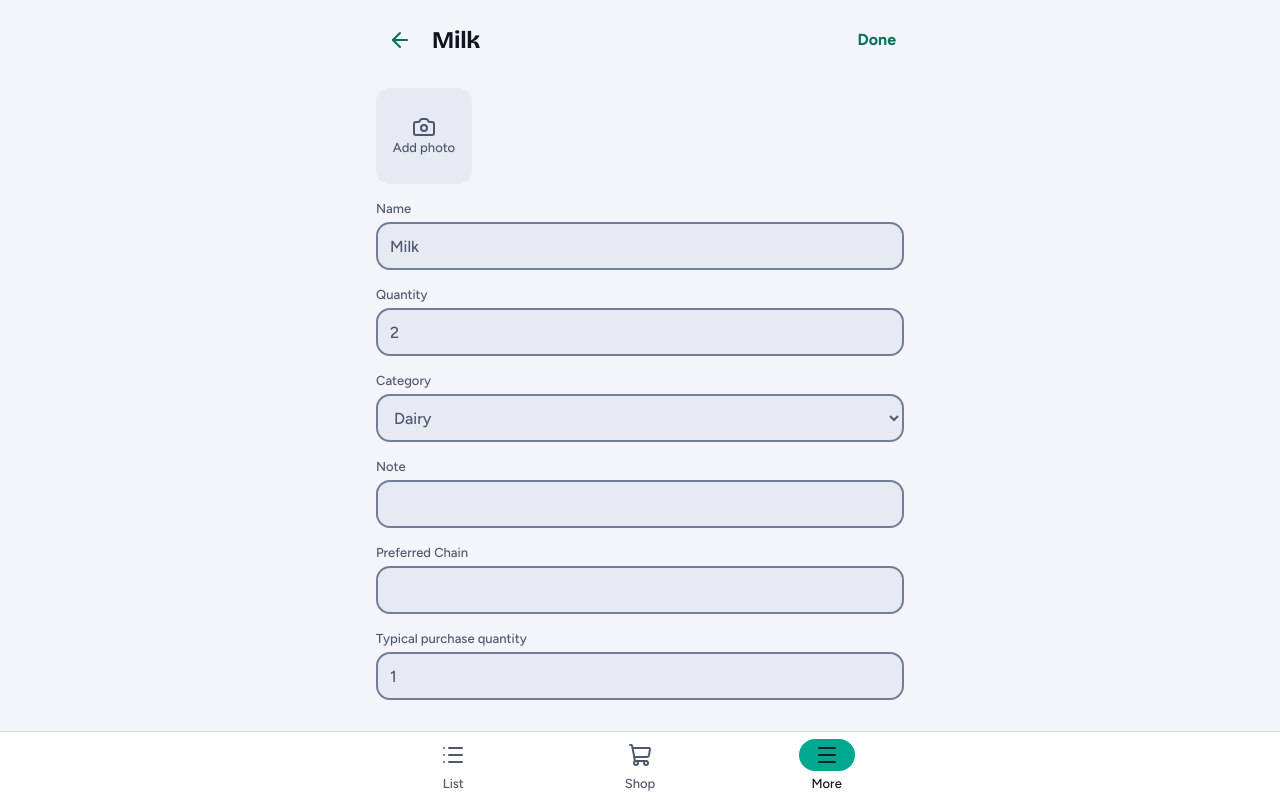
Test: refuses invalid typical quantity  without saving
Step 1. Clear the field labelled "Typical purchase quantity" → (640, 676), box x1=376 y1=652 x2=904 y2=700
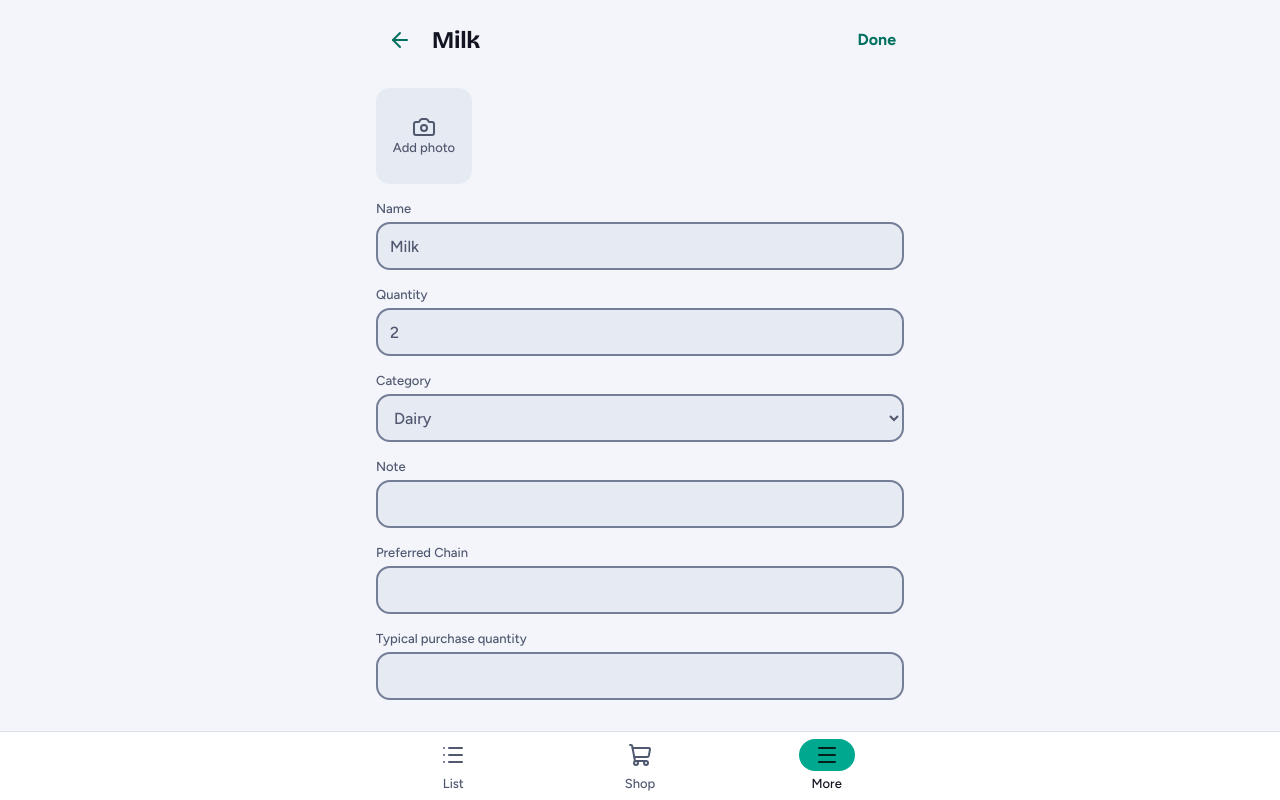
Step 2. Click the button "Done" → (877, 40), box x1=850 y1=16 x2=904 y2=64
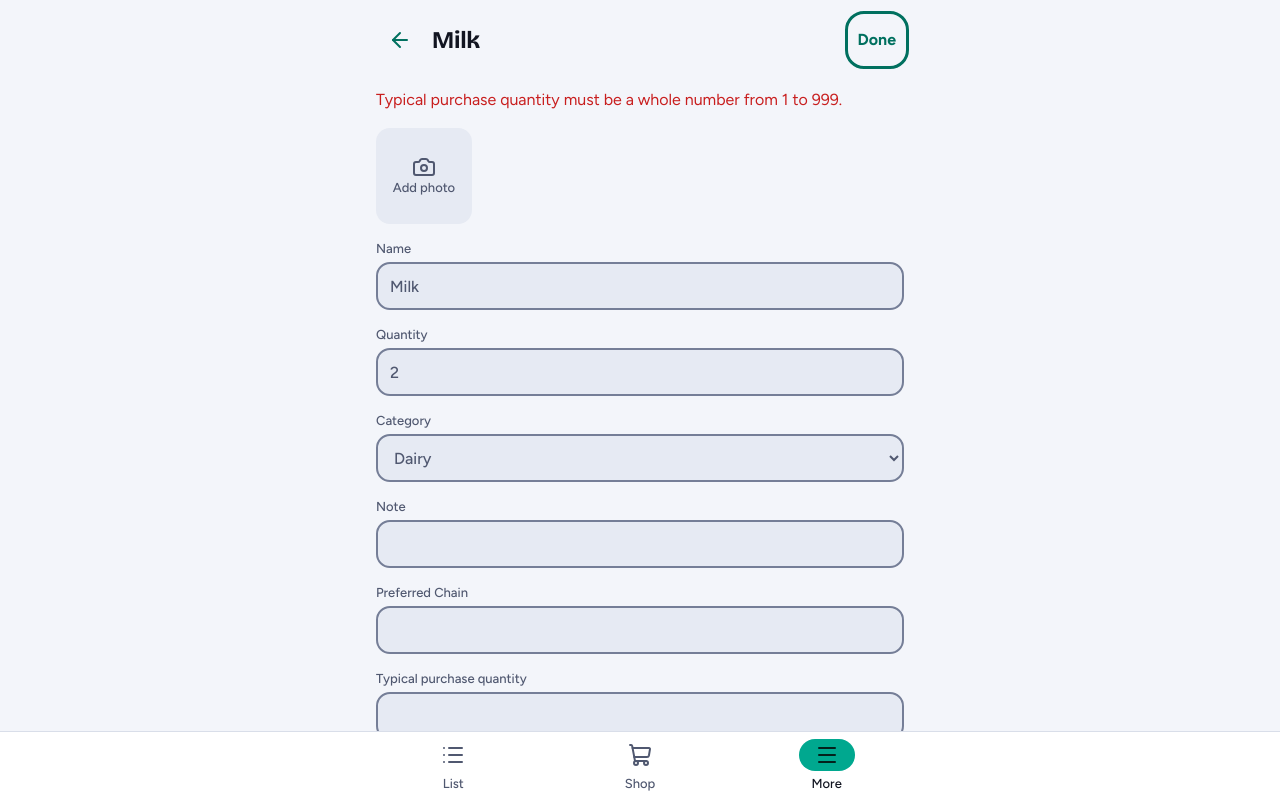
Expected: the message reads "Typical purchase quantity must be a whole number from 1 to 999.", x1=376 y1=90 x2=842 y2=109
